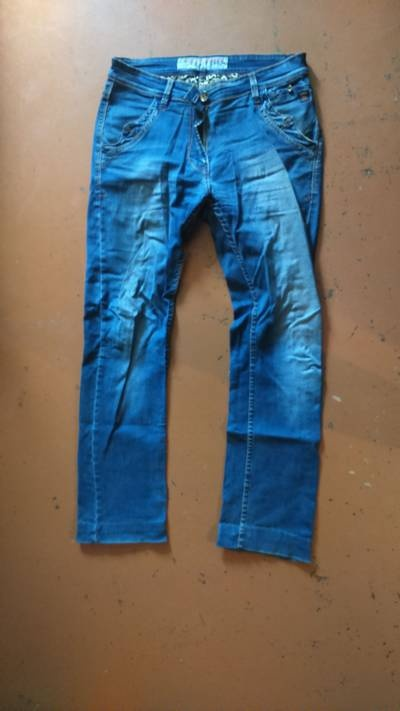Pants: (43, 33, 350, 594)
